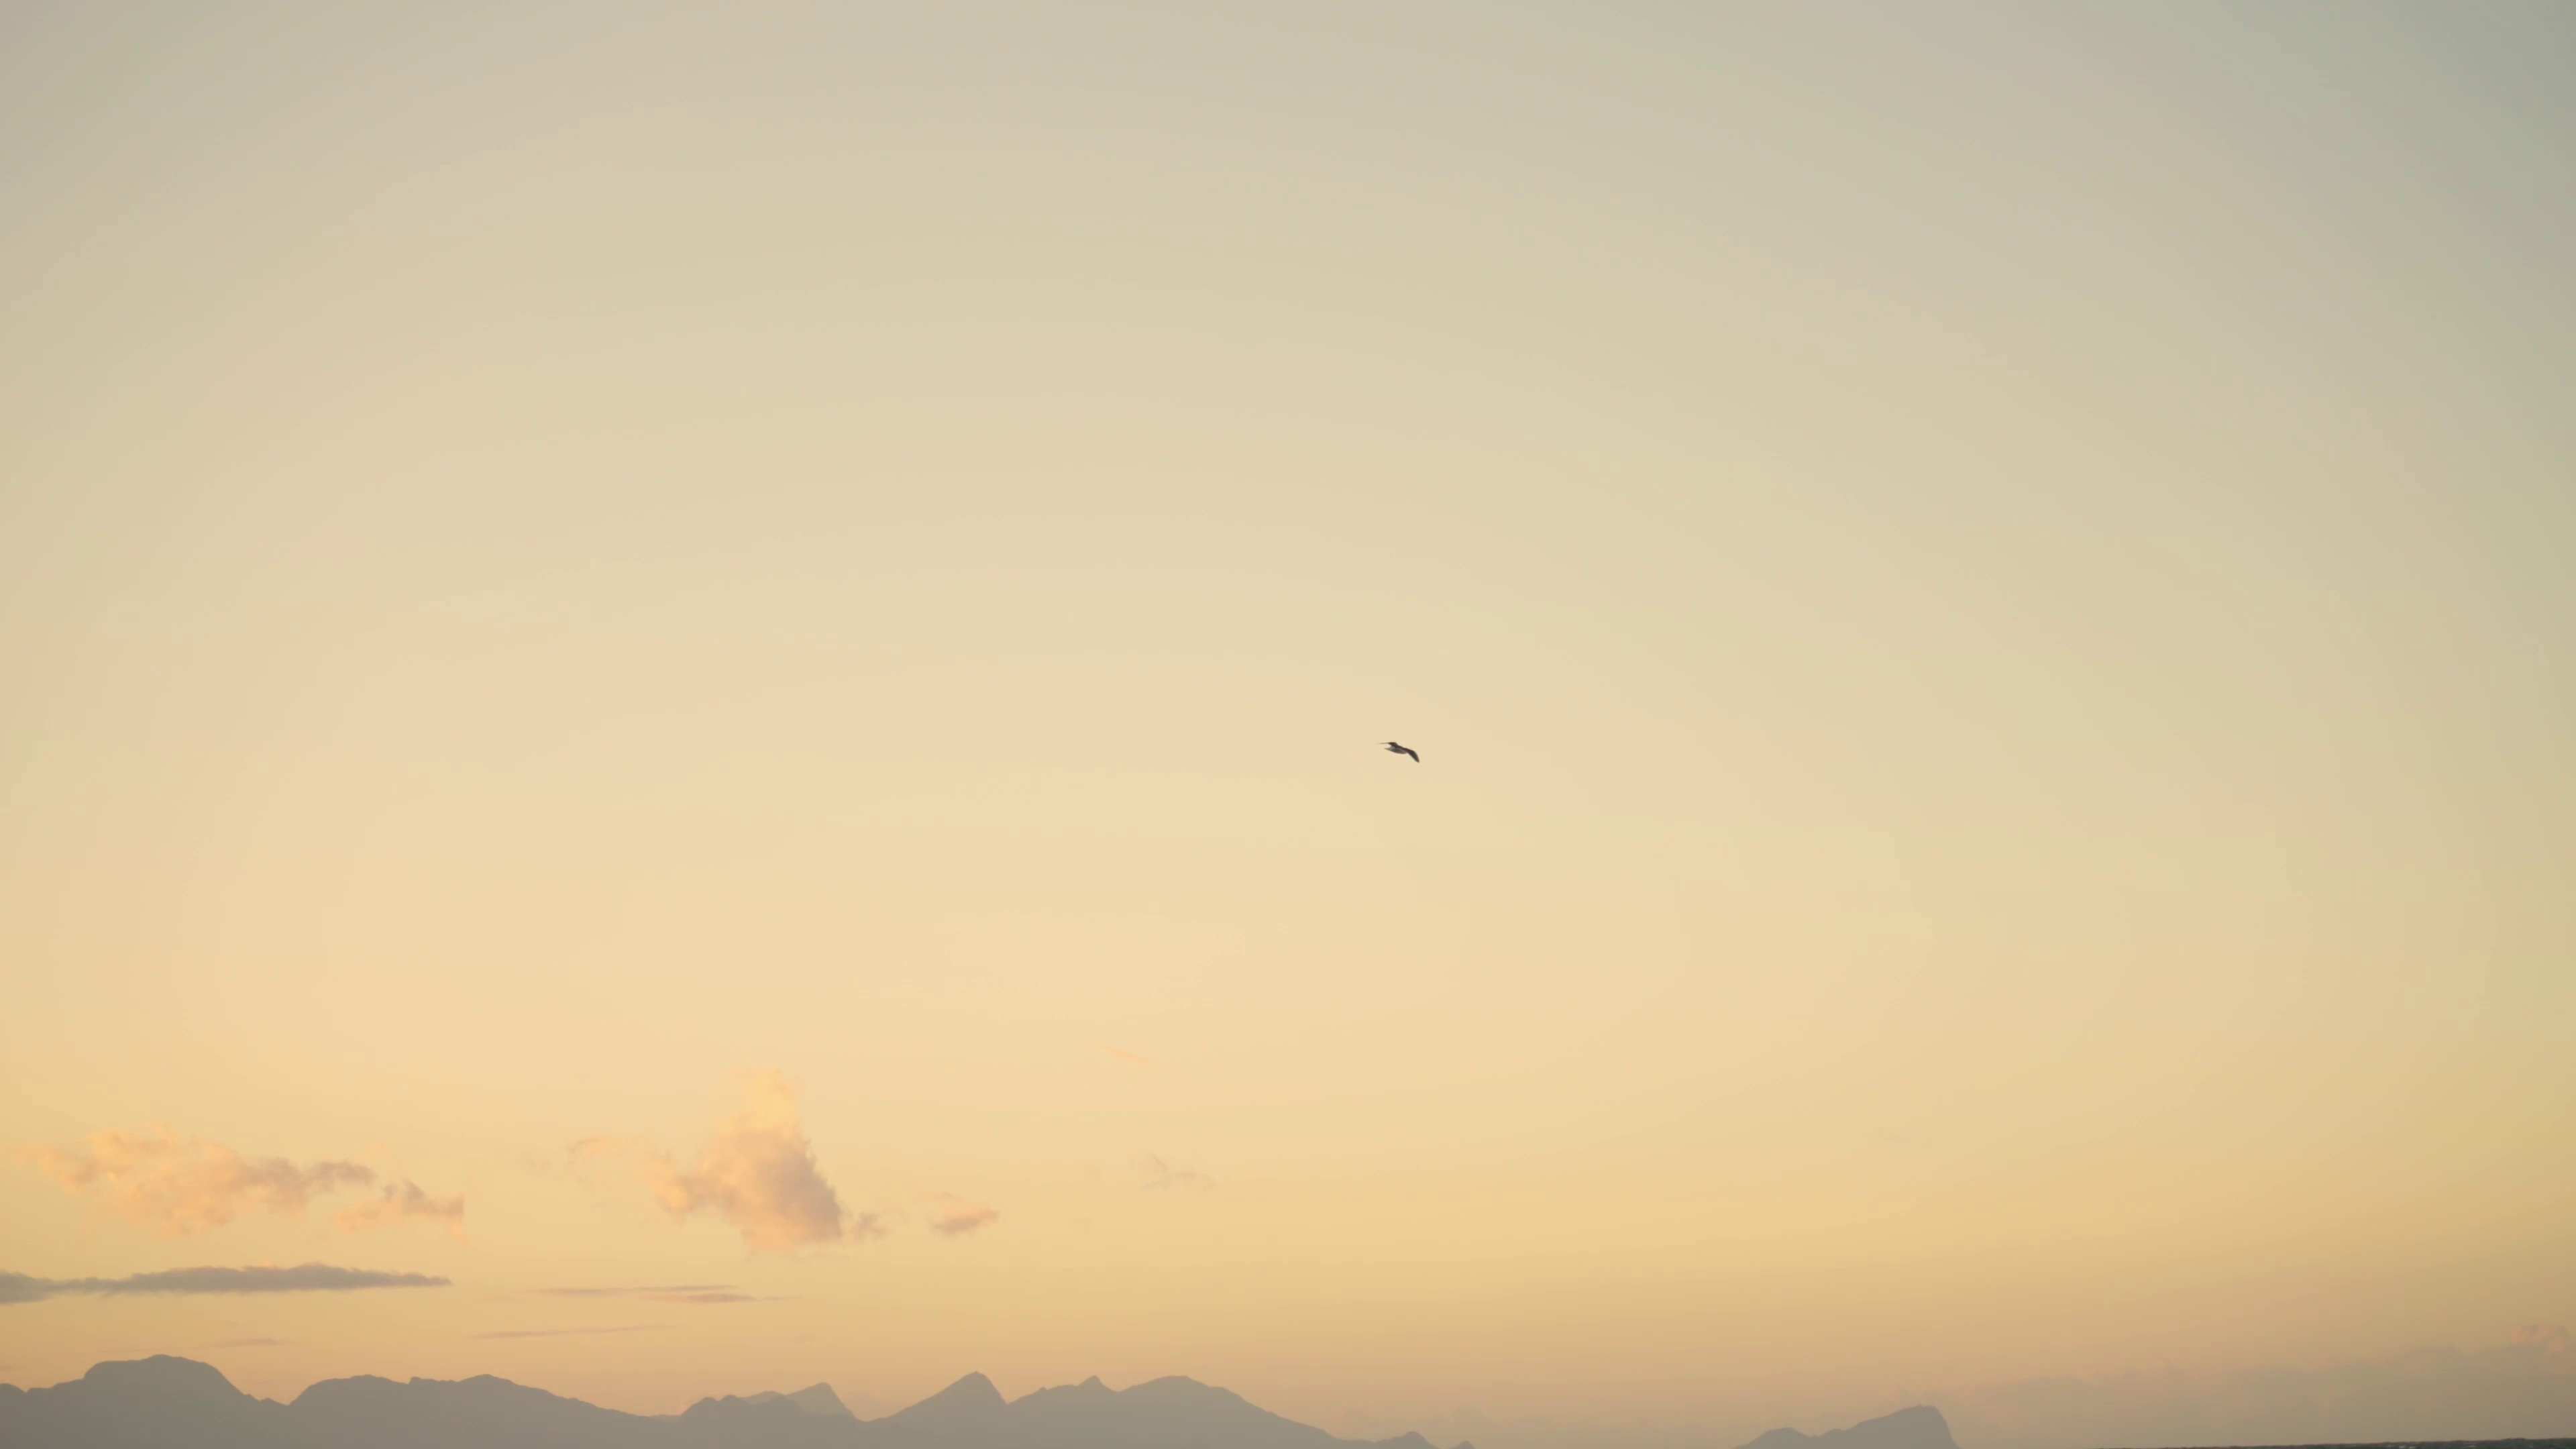bird: (1382, 740, 1419, 764)
